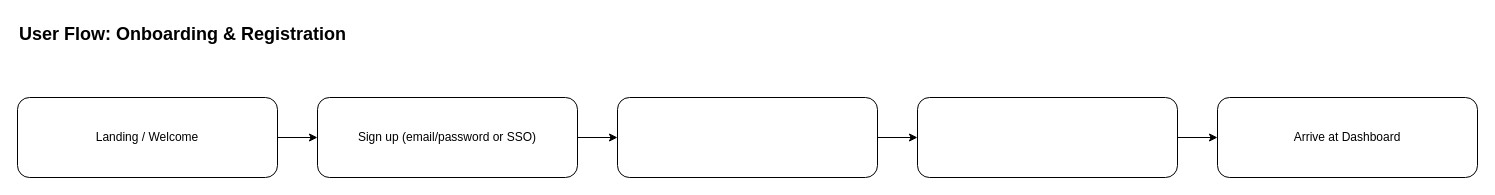
Image size: 1495x195. Some labels were removed from this diagram. The shapes that lost their labels are listed below. From the top down, each one's centre as x and y in pixels, then its label:
(x=747, y=137): Email verification
(x=1047, y=137): Create profile & preferences
